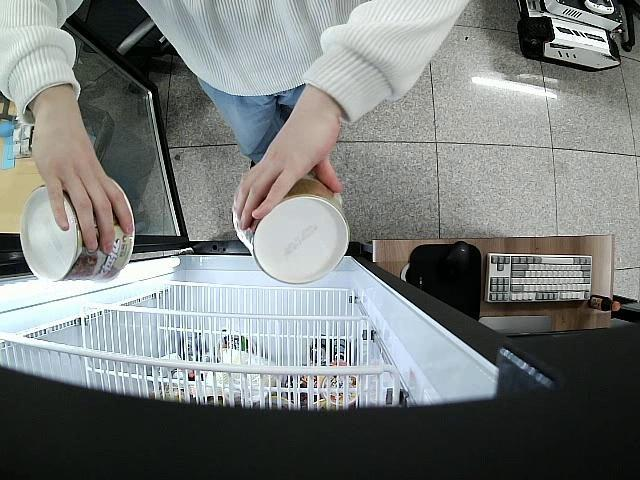03_chapagetti_L: (230, 175, 351, 284), (18, 177, 136, 284)
